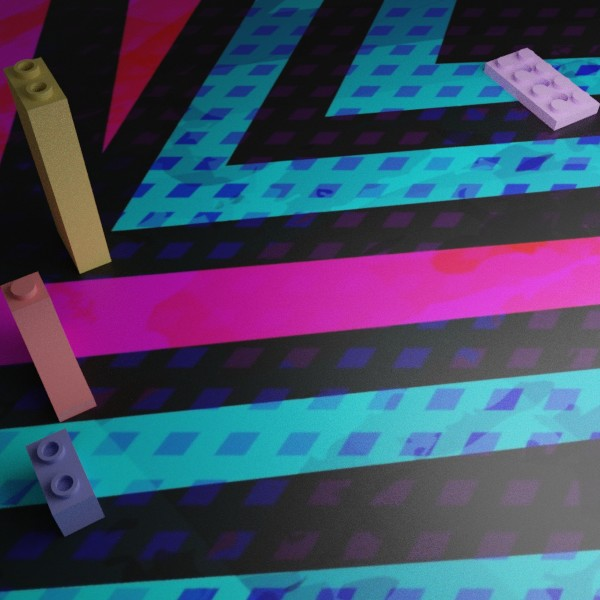18653: (0, 271, 96, 422)
2454: (3, 57, 111, 273)
32000: (25, 427, 104, 536)
3709b: (483, 47, 600, 130)
